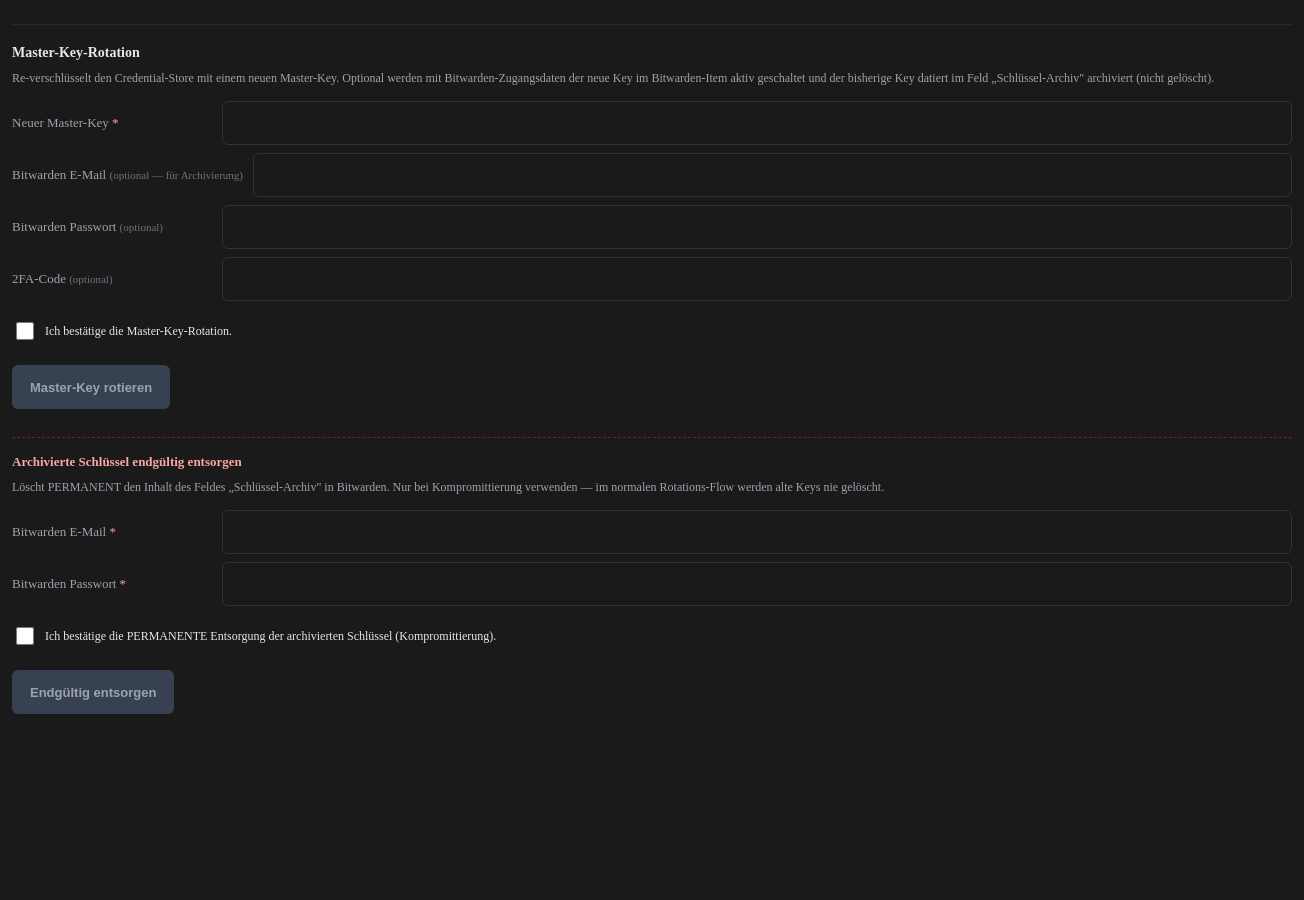
Test: MasterKeyRotationSection — Rotations-Formular › Archiv-Fehlschlag (Stufe 2 Teil-Fehler): stufen-genaue Warnung statt grüner Quittung — Stufe 1 bleibt grün
Type "a-new-secure-master-key-value" into the password field labelled "Neuer Master-Key *" at {"x": 757, "y": 123}, box [222, 101, 1292, 145]
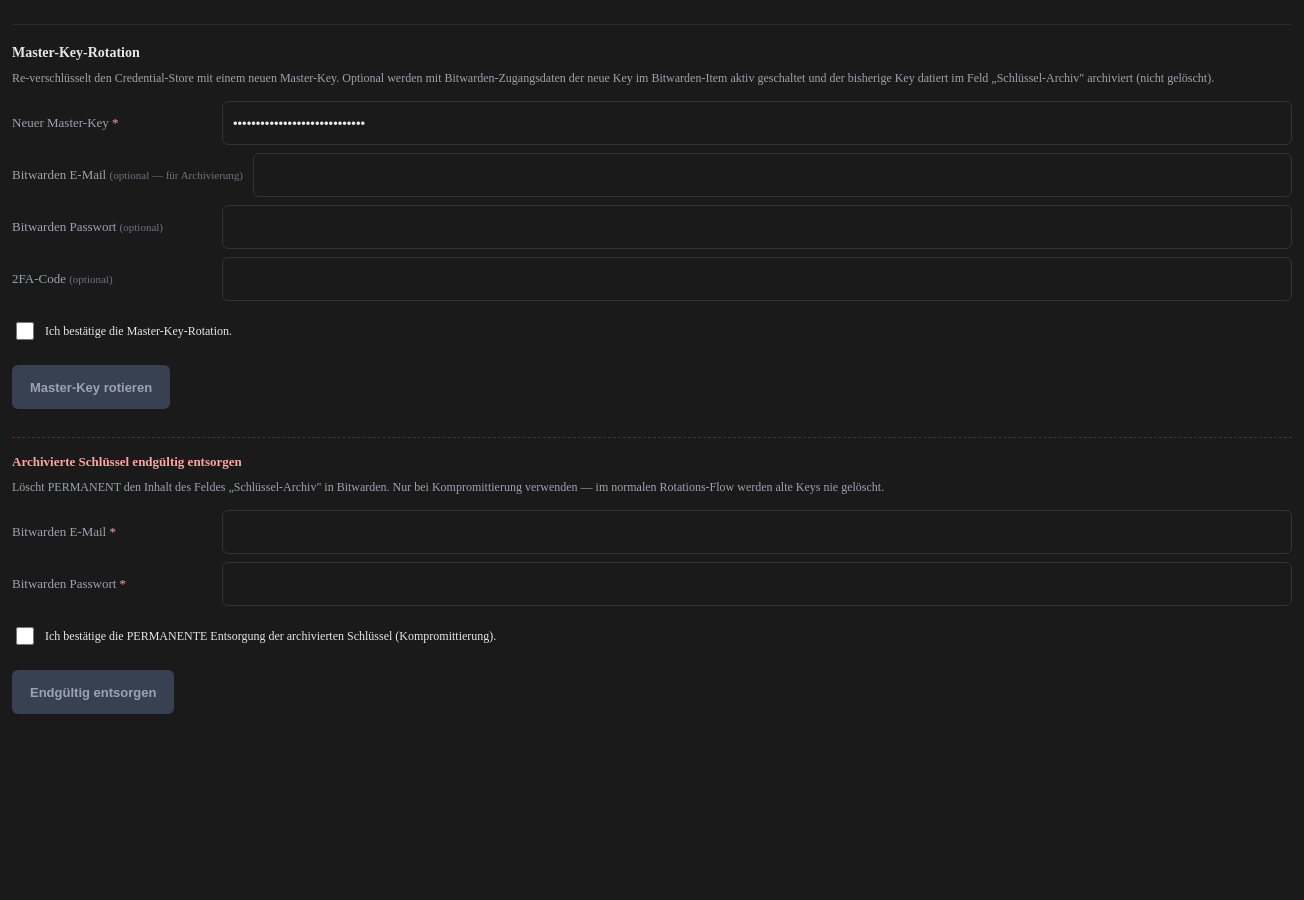
Type "admin@example.com" into the field labelled "Bitwarden E-Mail (optional — für Archivierung)" at {"x": 772, "y": 175}, box [253, 153, 1292, 197]
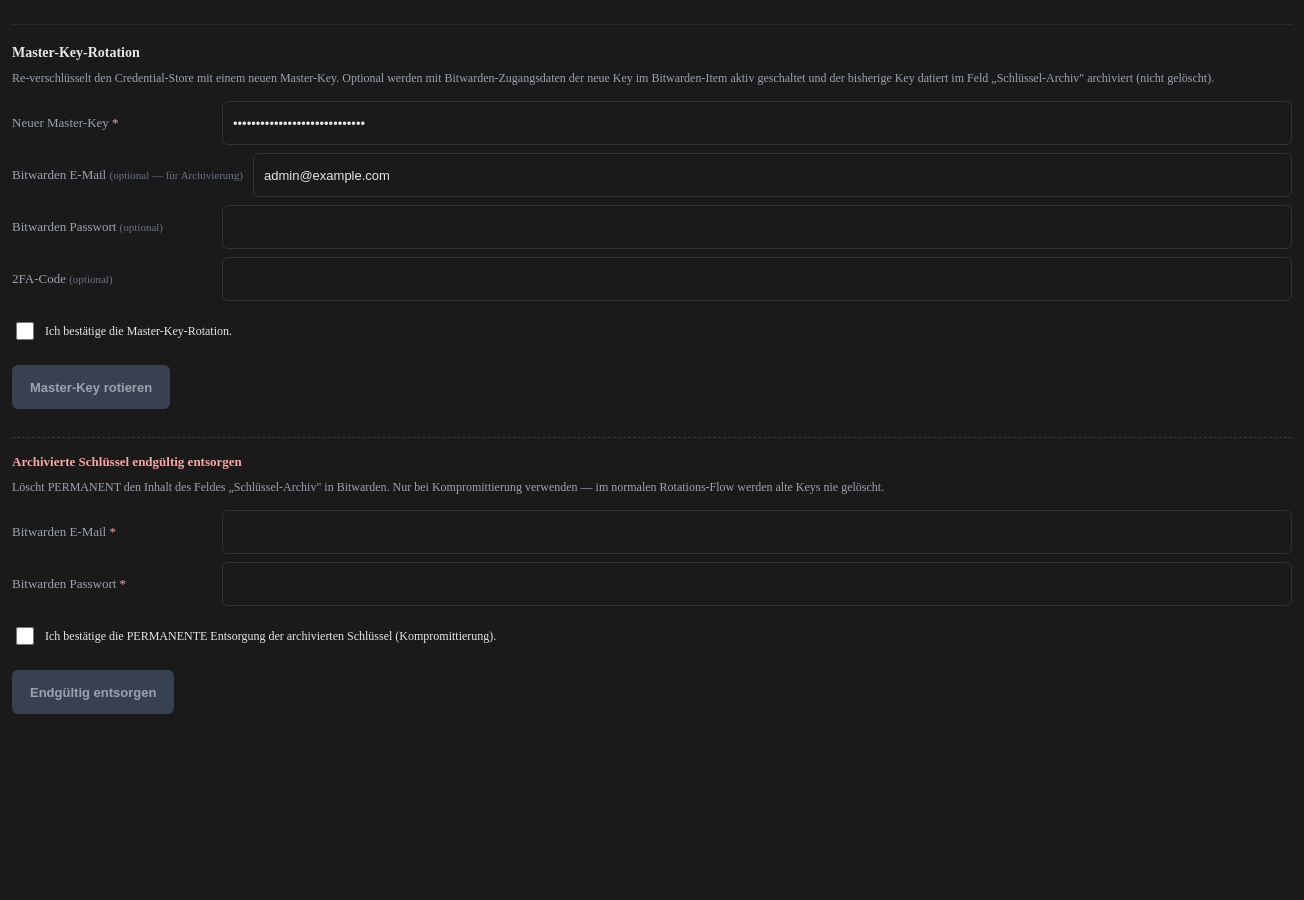
Type "wrong-password" into the password field labelled "Bitwarden Passwort (optional)" at {"x": 757, "y": 227}, box [222, 205, 1292, 249]
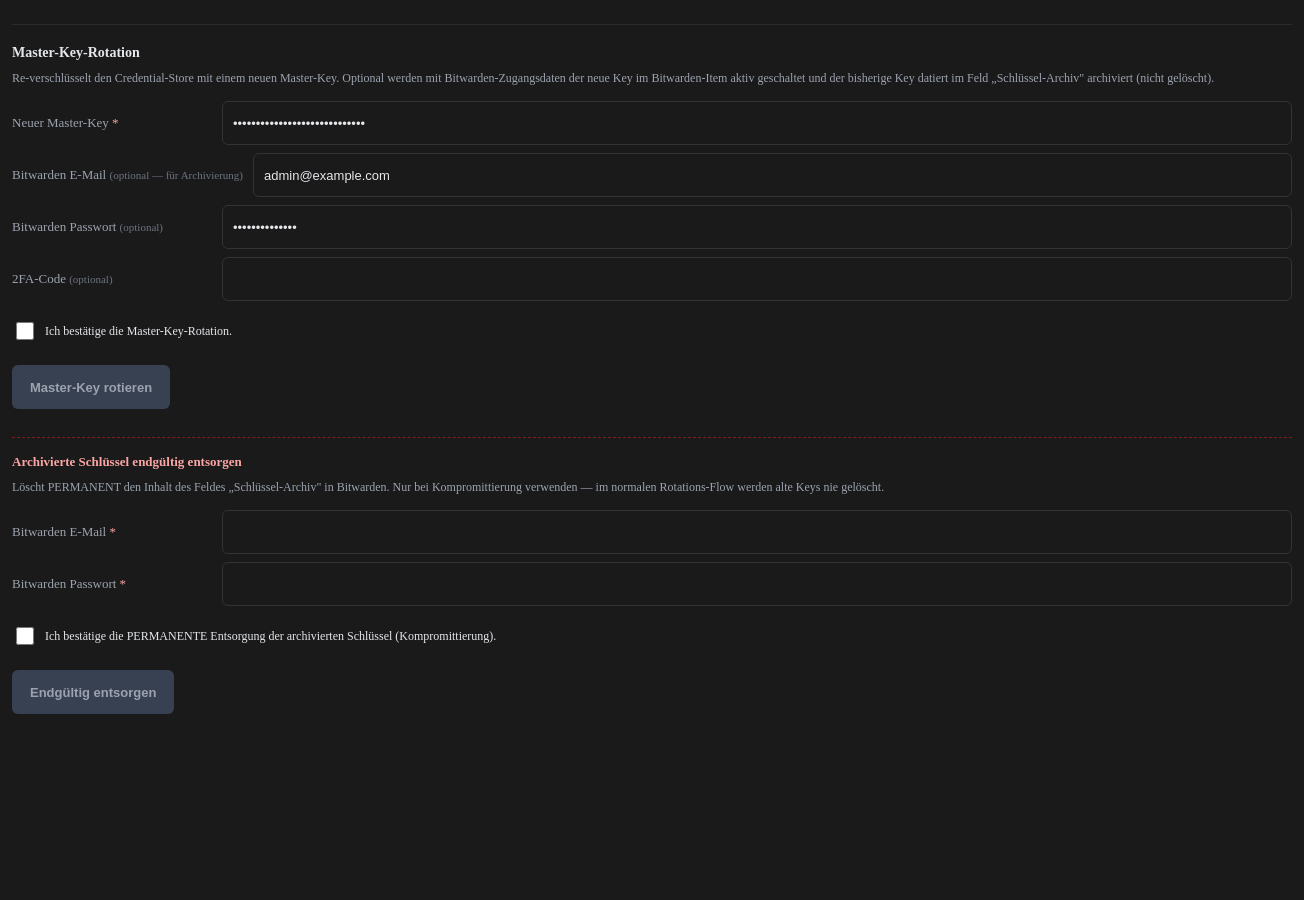
Click the checkbox labelled "Ich bestätige die Master-Key-Rotation." at {"x": 25, "y": 331}, box [16, 322, 34, 340]
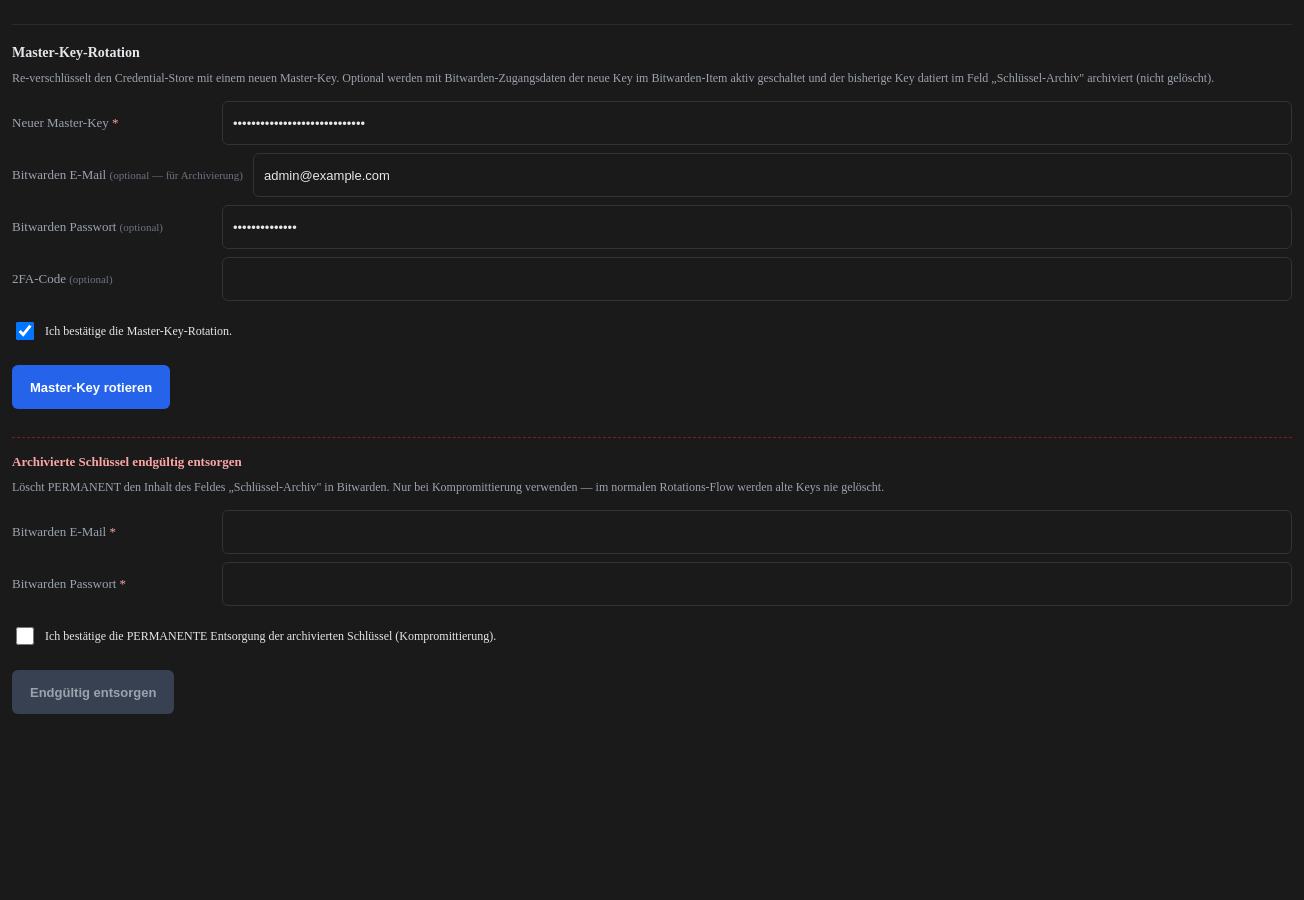
Click the button "Master-Key rotieren" at {"x": 91, "y": 387}, box [12, 365, 170, 409]
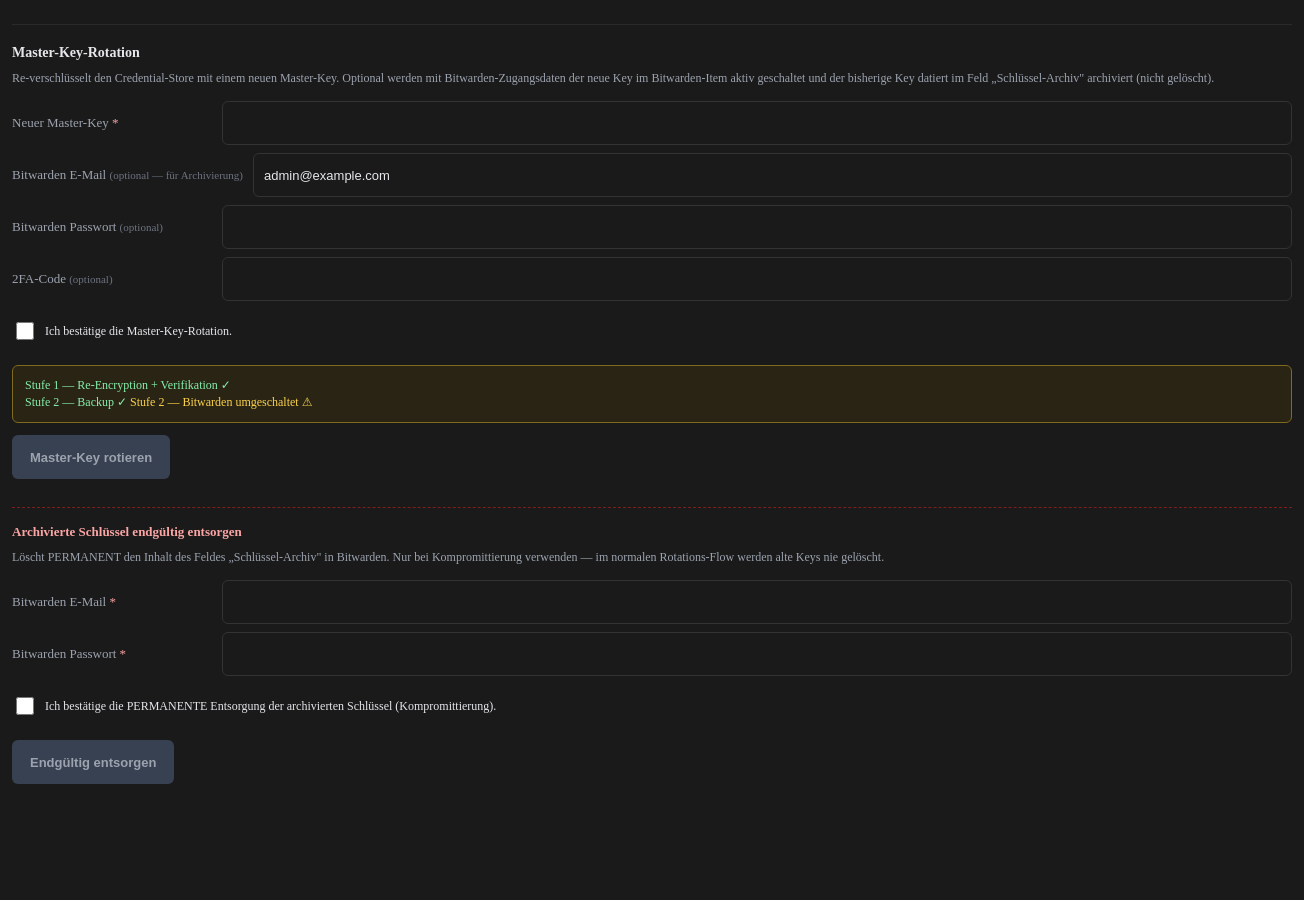
Check: the picture "Stufe 1 — Re-Encryption + Verifikation ✓" is shown, box [25, 378, 231, 392]
Check: the picture "Stufe 2 — Bitwarden umgeschaltet ⚠" is shown, box [130, 395, 312, 409]
Check: the password field labelled "Bitwarden Passwort (optional)" is empty, box [222, 205, 1292, 249]
